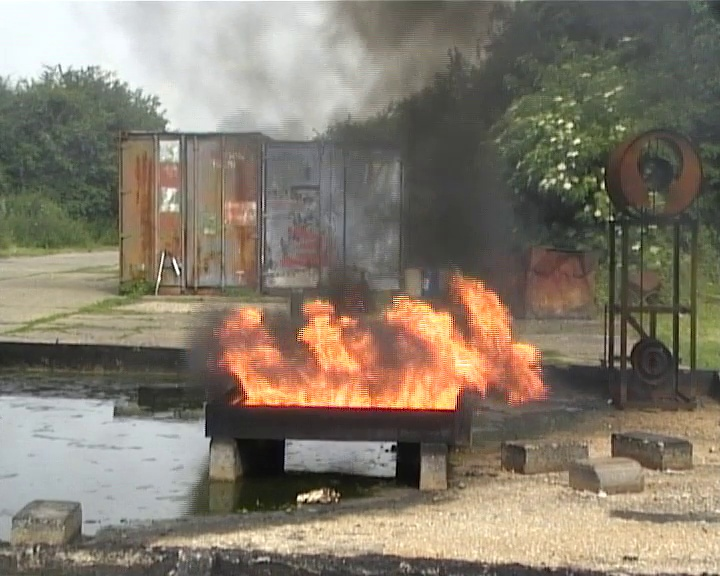fire: (226, 282, 538, 409)
